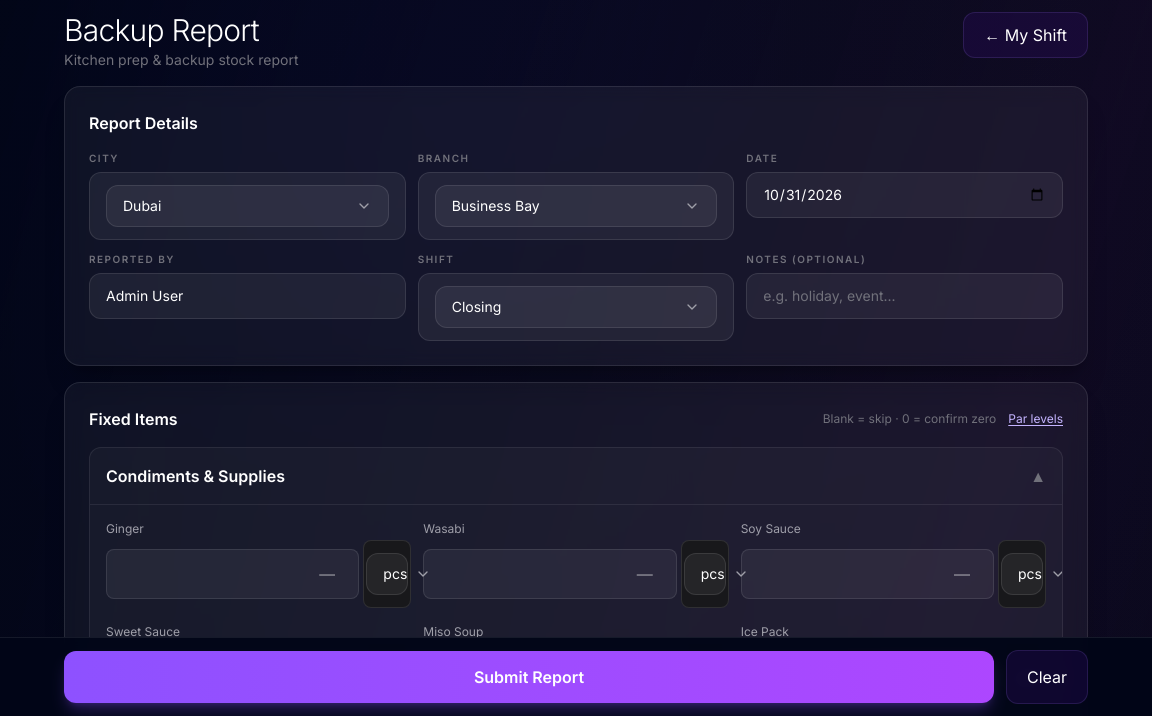
Scenario: /admin/backup — city switching › switching to Manila shows percentage buttons for pct items (e.g. 0%, 25%, 50%, 75%, 100%)
The image size is (1152, 716).
Expected: the heading "Backup Report" is shown, [64,12,259,48]
Click the dropdown labelled "Dubai": coordinates (142, 206) [106,185,389,227]
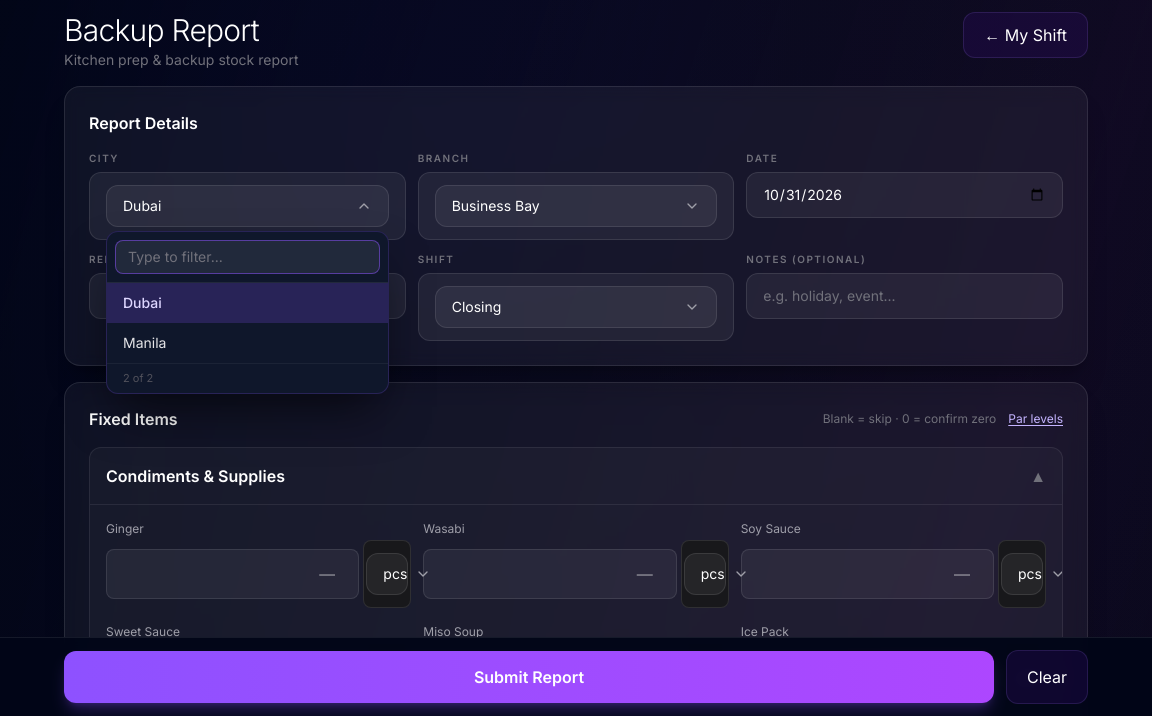
Click the option "Manila": coordinates (145, 342) [107,323,388,363]
(page scrolled)
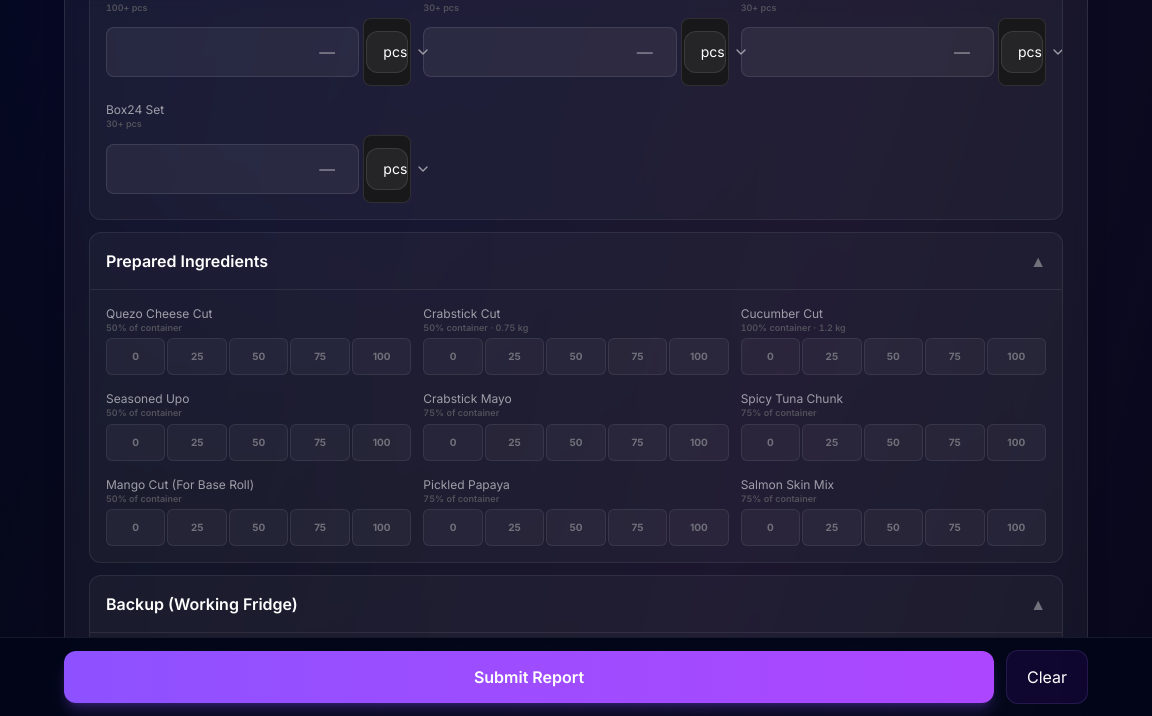
Expected: the button titled "0% (standard:" below "Quezo Cheese Cut" is shown, [106,338,166,375]
Expected: the button titled "100% (standard:" below "Quezo Cheese Cut" is shown, [352,338,411,375]
